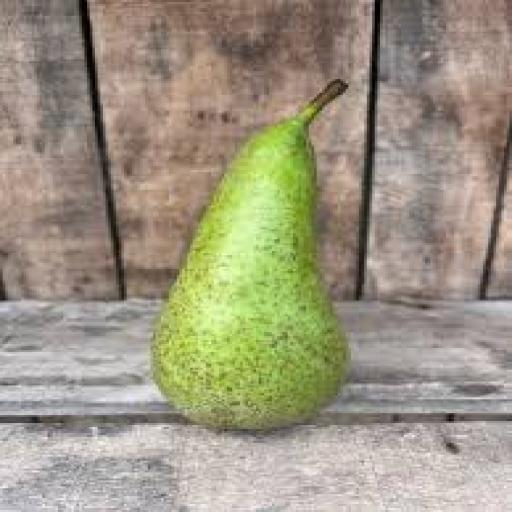Pear: (154, 82, 348, 428)
